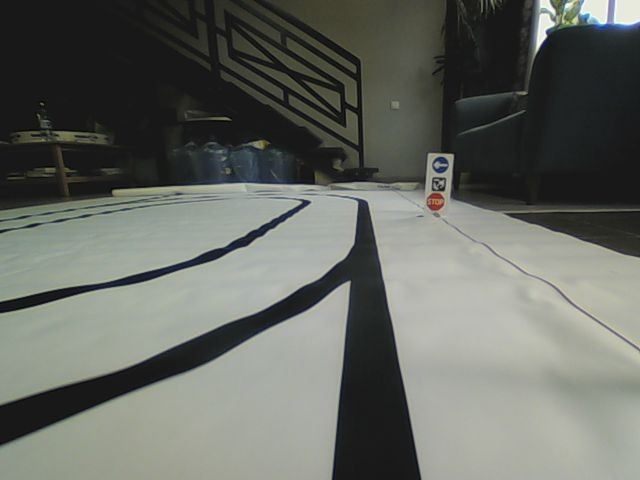Stop: (426, 193, 443, 210)
